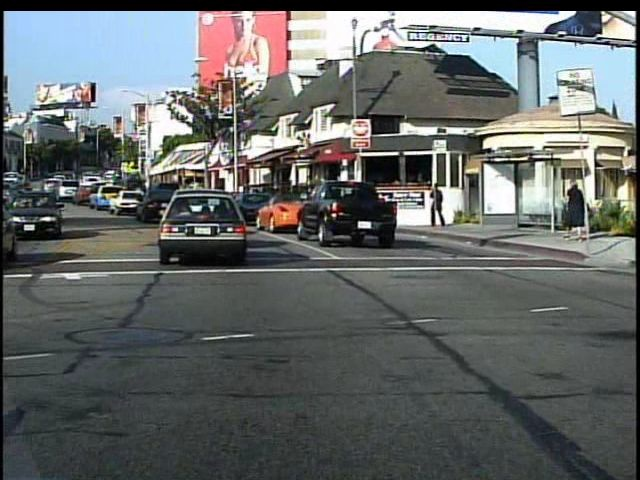person: (559, 174, 585, 248), (429, 183, 445, 234)
